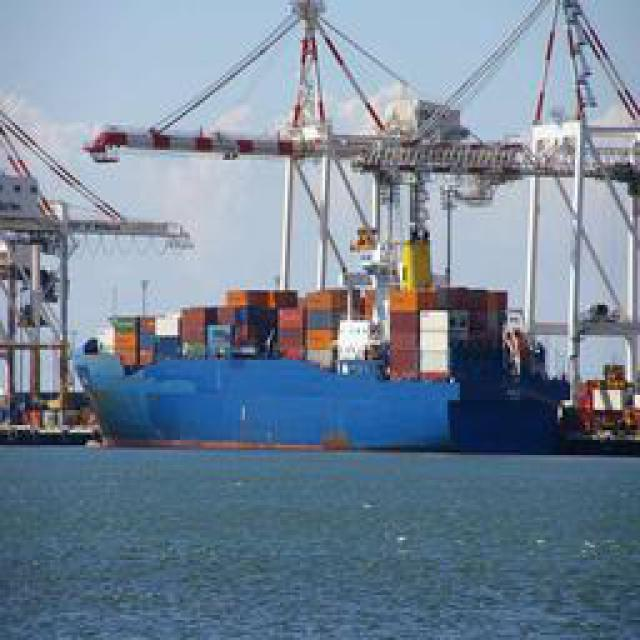Ship: (51, 230, 639, 460)
